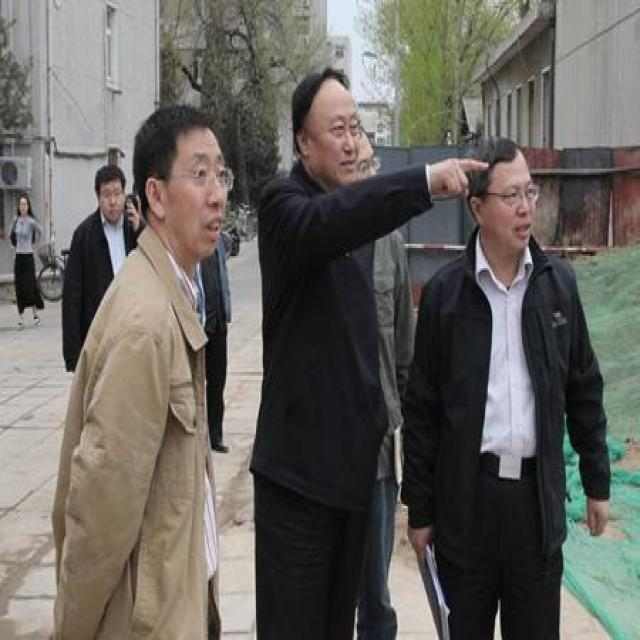head: (137, 94, 233, 253), (287, 60, 368, 188), (471, 135, 538, 253), (92, 160, 128, 227), (17, 188, 32, 218)
person: (410, 126, 622, 629), (245, 51, 407, 640), (107, 96, 240, 638), (59, 149, 138, 371), (6, 192, 51, 337)
